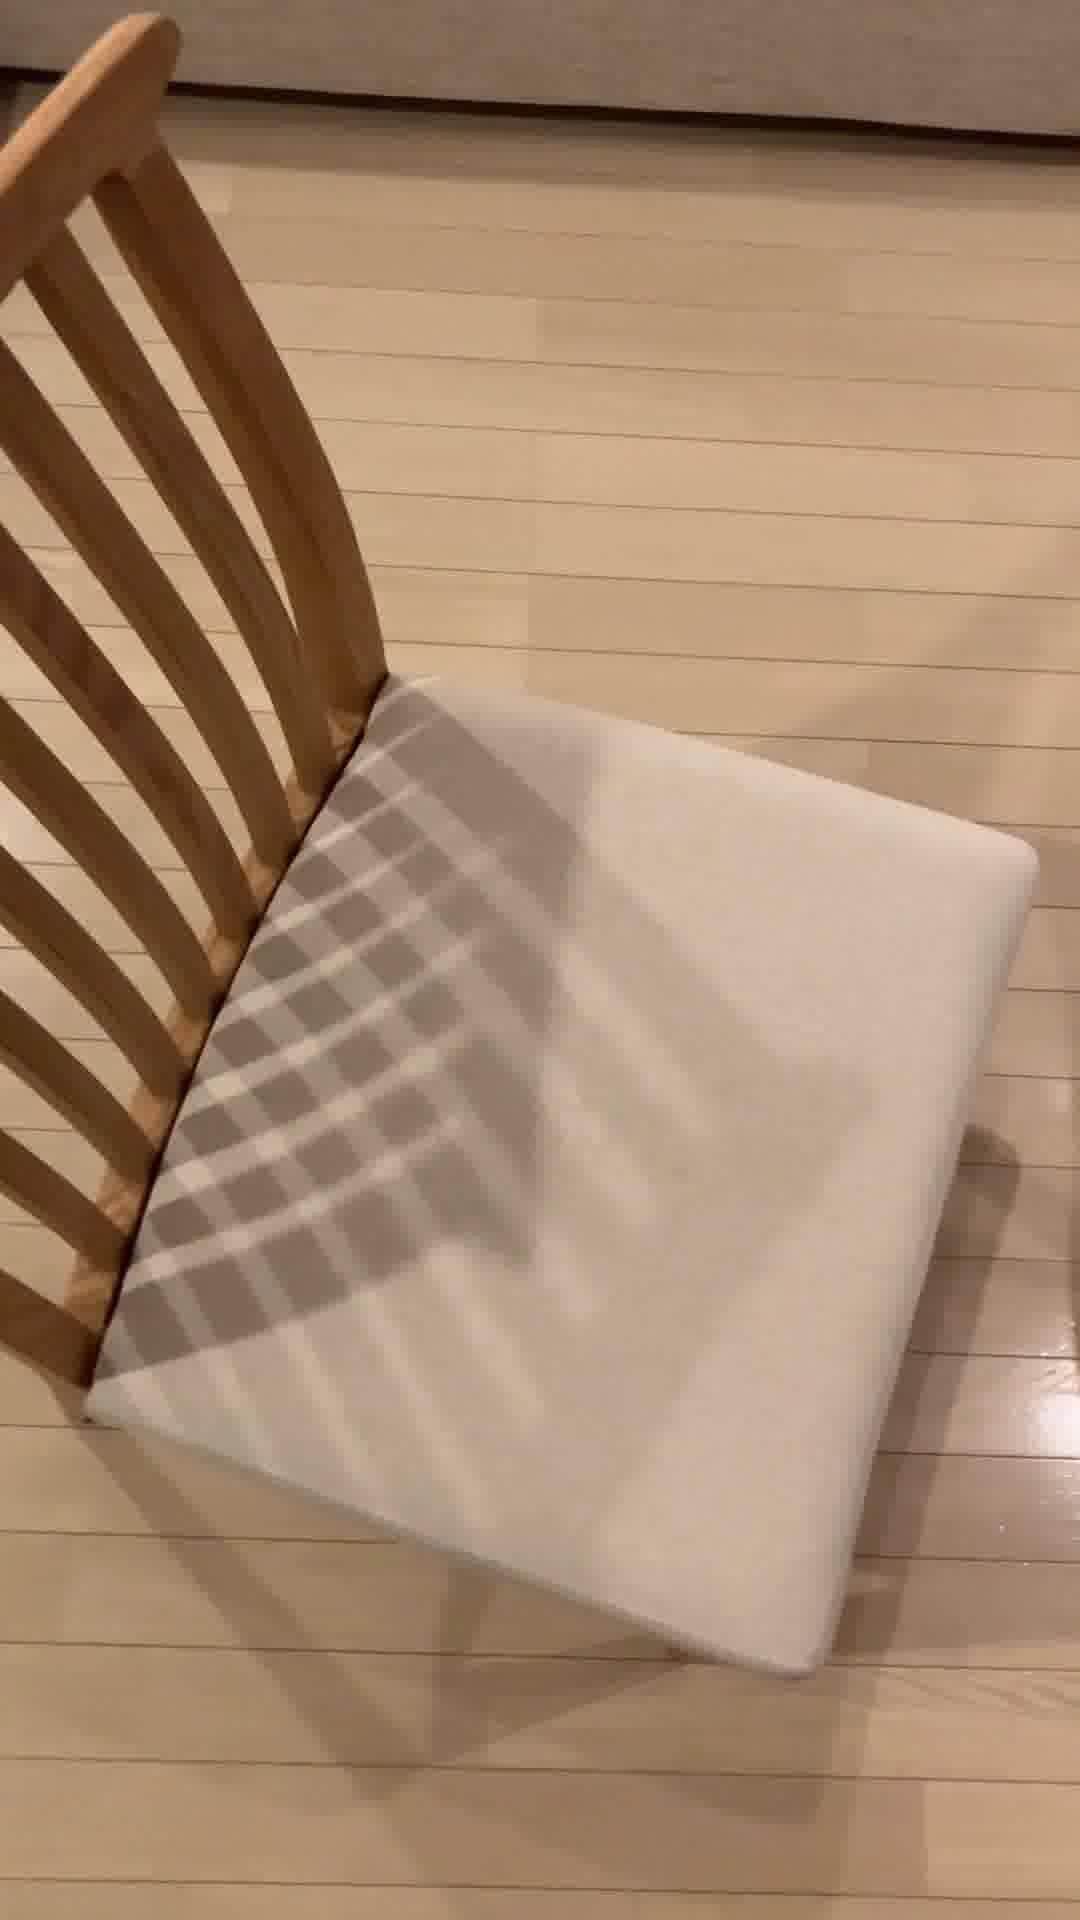takumikan-chair: (0, 0, 1039, 1697)
